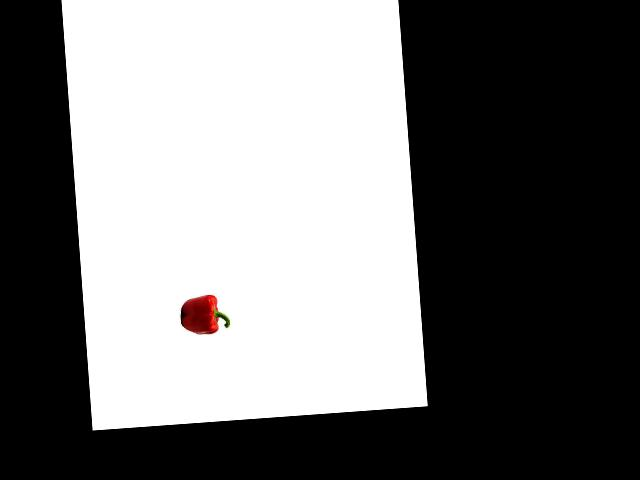bell_pepper: (176, 290, 232, 339)
